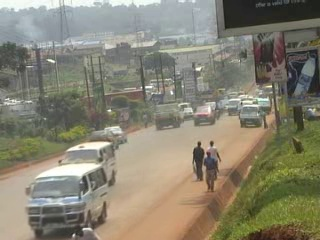Car: (89, 128, 120, 153), (105, 123, 129, 147), (180, 104, 195, 121), (204, 101, 219, 115)
Motorcycle: (213, 103, 222, 121)
